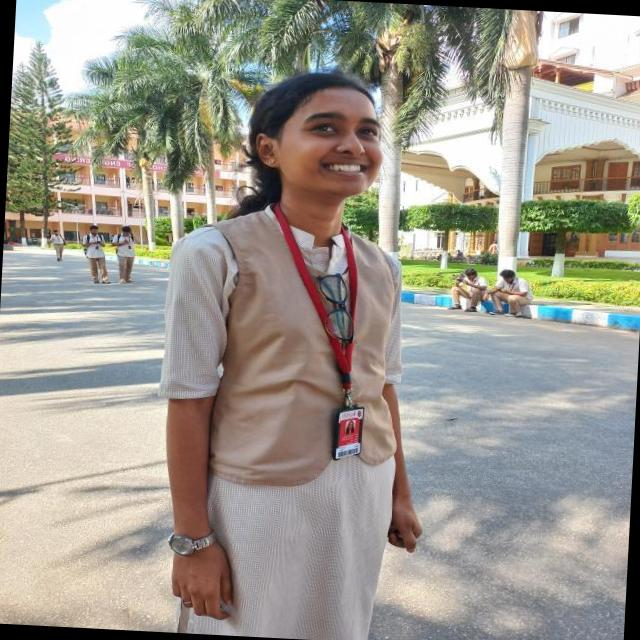id_card: (268, 210, 379, 468)
